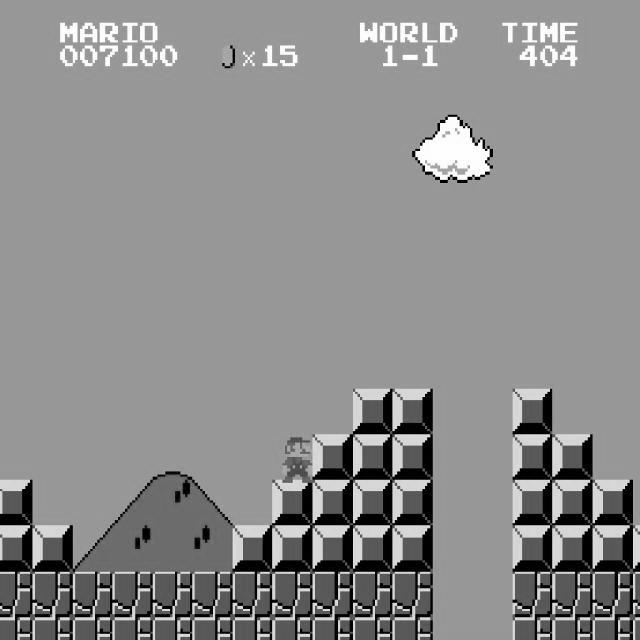11- little_mario: (277, 434, 320, 482)
17- undestructible_block: (32, 572, 73, 618), (72, 572, 113, 618), (112, 572, 153, 618), (152, 572, 193, 618), (192, 572, 233, 618), (232, 572, 273, 618), (272, 572, 313, 618), (312, 572, 353, 618), (352, 572, 393, 618), (392, 572, 433, 618), (512, 572, 553, 618), (552, 572, 593, 618), (592, 572, 633, 618), (0, 571, 32, 617), (32, 617, 73, 640), (72, 617, 113, 640), (112, 617, 153, 640), (152, 617, 193, 640), (192, 617, 233, 640), (232, 617, 273, 640), (272, 617, 313, 640), (312, 617, 353, 640), (352, 617, 393, 640), (392, 617, 433, 640), (512, 617, 553, 640), (552, 617, 593, 640), (592, 617, 633, 640), (0, 617, 32, 639), (633, 572, 640, 618), (633, 617, 640, 640)
9- hard_block: (32, 526, 73, 572), (232, 526, 273, 572), (272, 480, 313, 526), (272, 526, 313, 572), (312, 434, 353, 480), (312, 480, 353, 526), (312, 526, 353, 572), (352, 388, 393, 434), (352, 434, 393, 480), (352, 480, 393, 526), (352, 526, 393, 572), (392, 388, 433, 434), (392, 434, 433, 480), (392, 480, 433, 526), (392, 526, 433, 572), (512, 388, 553, 434), (512, 434, 553, 480), (512, 480, 553, 526), (512, 526, 553, 572), (552, 434, 593, 480), (552, 480, 593, 526), (552, 526, 593, 572), (592, 480, 633, 526), (592, 526, 633, 572), (0, 525, 32, 571), (0, 480, 32, 525), (633, 526, 640, 572)
